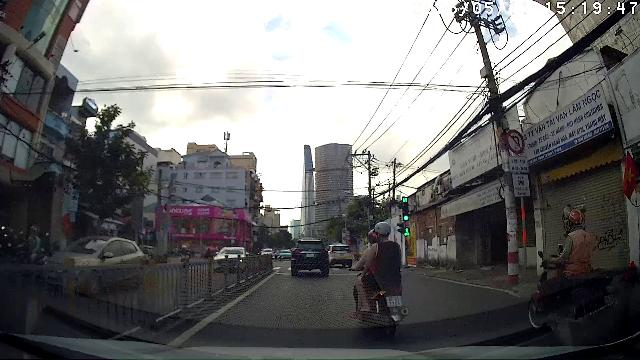103c-cam-oto-re-trai: (505, 129, 525, 154)
